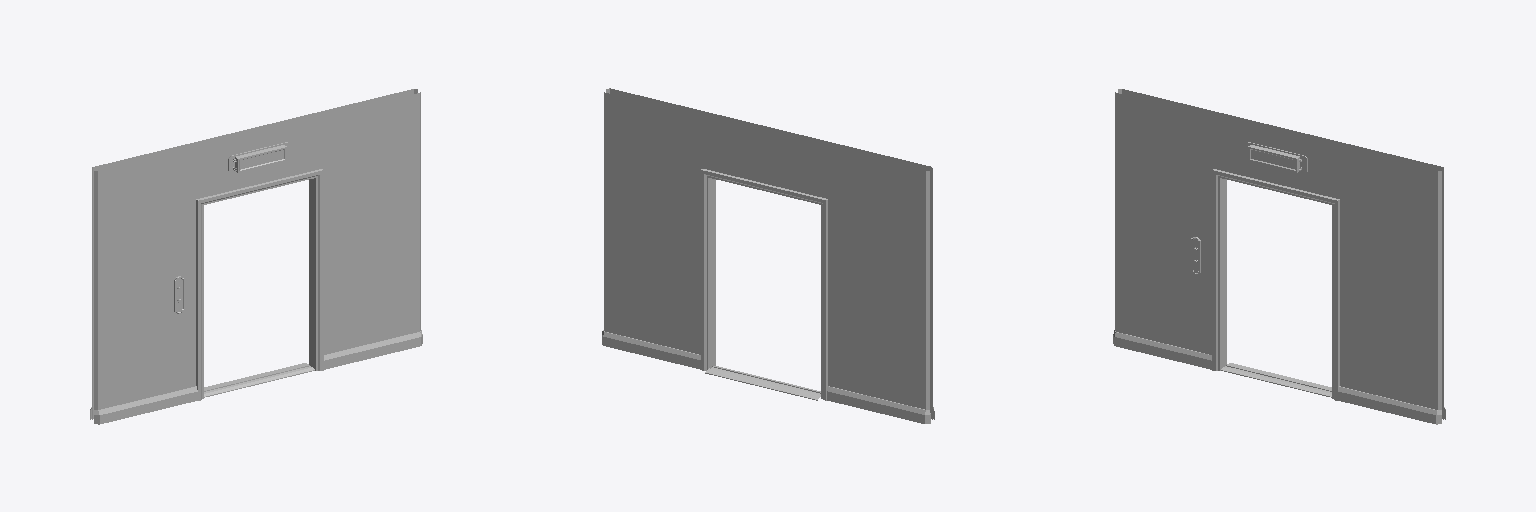
The model's file is elevator_doorway_2_1.obj.
3 views of the same model, side by side, from view 1: azimuth 30°, elevation 25°; view 2: azimuth 150°, elevation 25°; view 3: azimuth 330°, elevation 25° (orthographic).
Visible parts, largest first — view 1: elevator_doorway_2_1; view 2: elevator_doorway_2_1; view 3: elevator_doorway_2_1.
Boxes of the visible parts, box(x1,y1,x2,y2) form: elevator_doorway_2_1: box(90, 89, 422, 424); elevator_doorway_2_1: box(602, 88, 934, 423); elevator_doorway_2_1: box(1113, 89, 1445, 424).
Size of the model in its own units: 4.09 by 3 by 0.29.